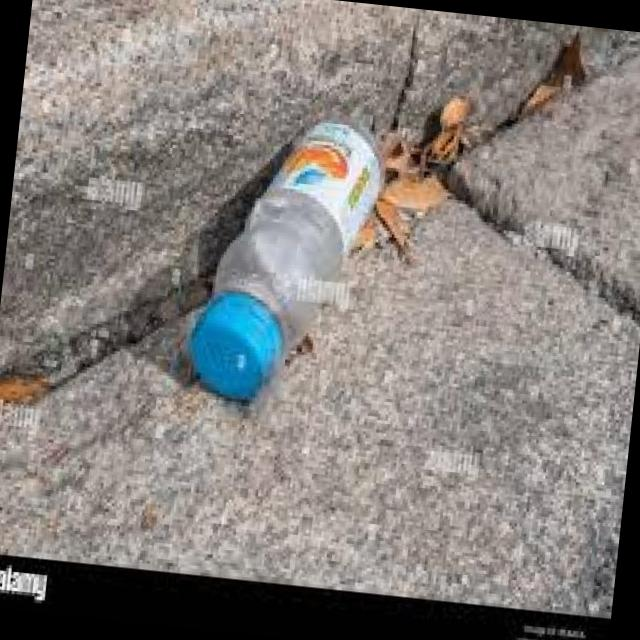plastic_bottle: (183, 108, 390, 414)
